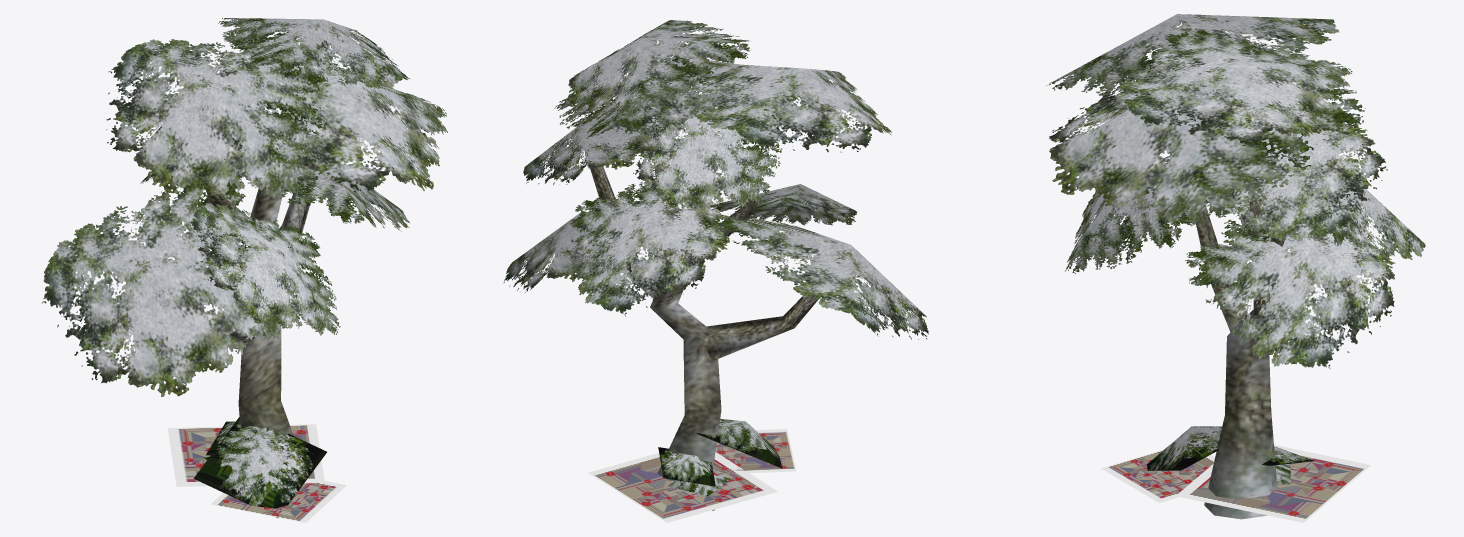
Rendered from big_tree1.dae.
3 renders of one model, left to right at view 1: azimuth 30°, elevation 25°; view 2: azimuth 150°, elevation 25°; view 3: azimuth 270°, elevation 25°, orthographic. The views are drawn at different scales.
Parts seen in each view (by area): view 1: Untitled; view 2: Untitled; view 3: Untitled.
Part boxes in pixels (box(x1,y1,x2,y2)): Untitled: box(41, 18, 447, 522); Untitled: box(503, 20, 928, 522); Untitled: box(1046, 14, 1425, 522).
Bounding box in the file's own units: 4.9 × 4.7 × 5.22.
Materials: 4 (4 with a texture image).
